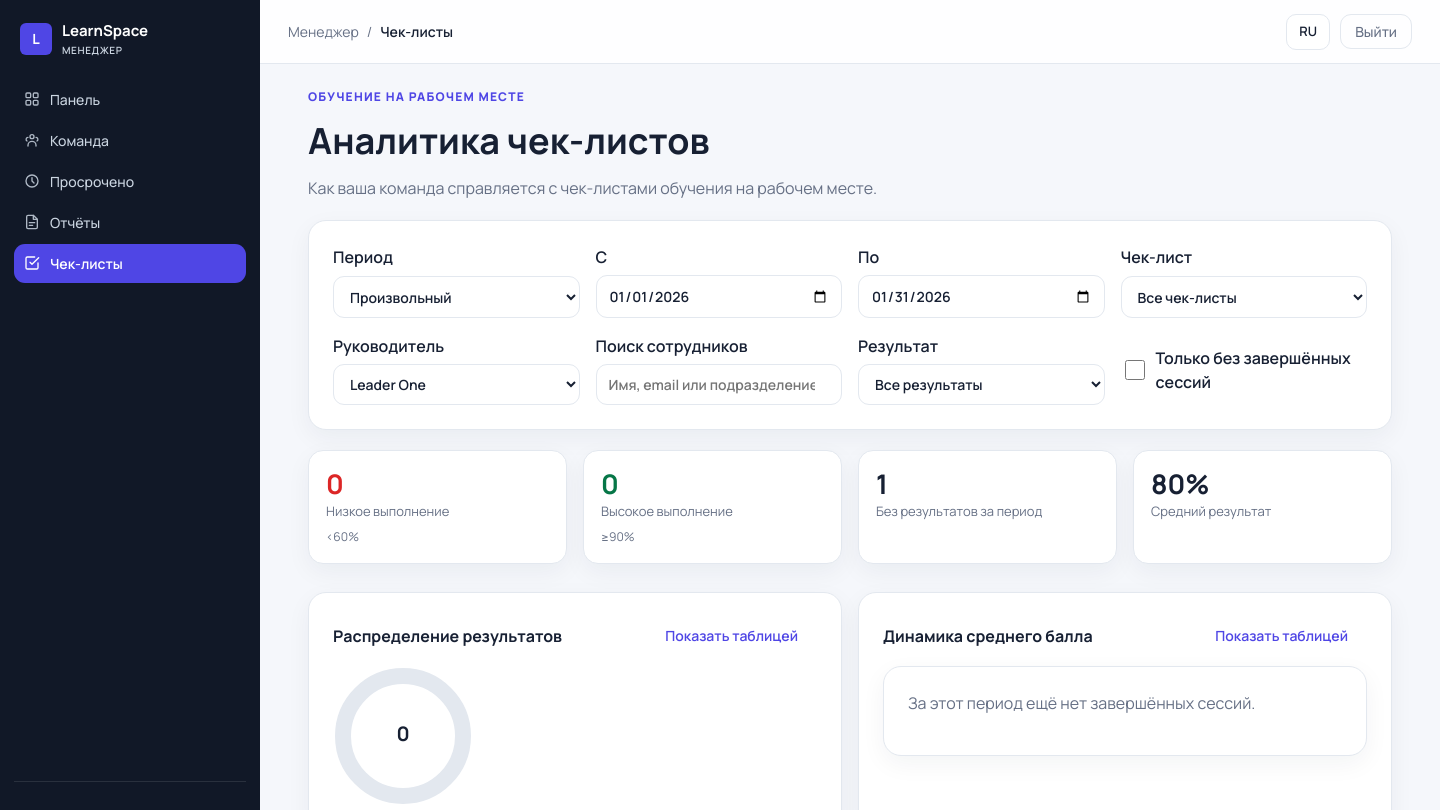
Test: restores a manager from the URL and preserves the period when switching to unassigned
Select "Без руководителя" in the dropdown labelled "Руководитель" at coordinates (456, 384), box left=333, top=364, right=580, bottom=405
(page scrolled)
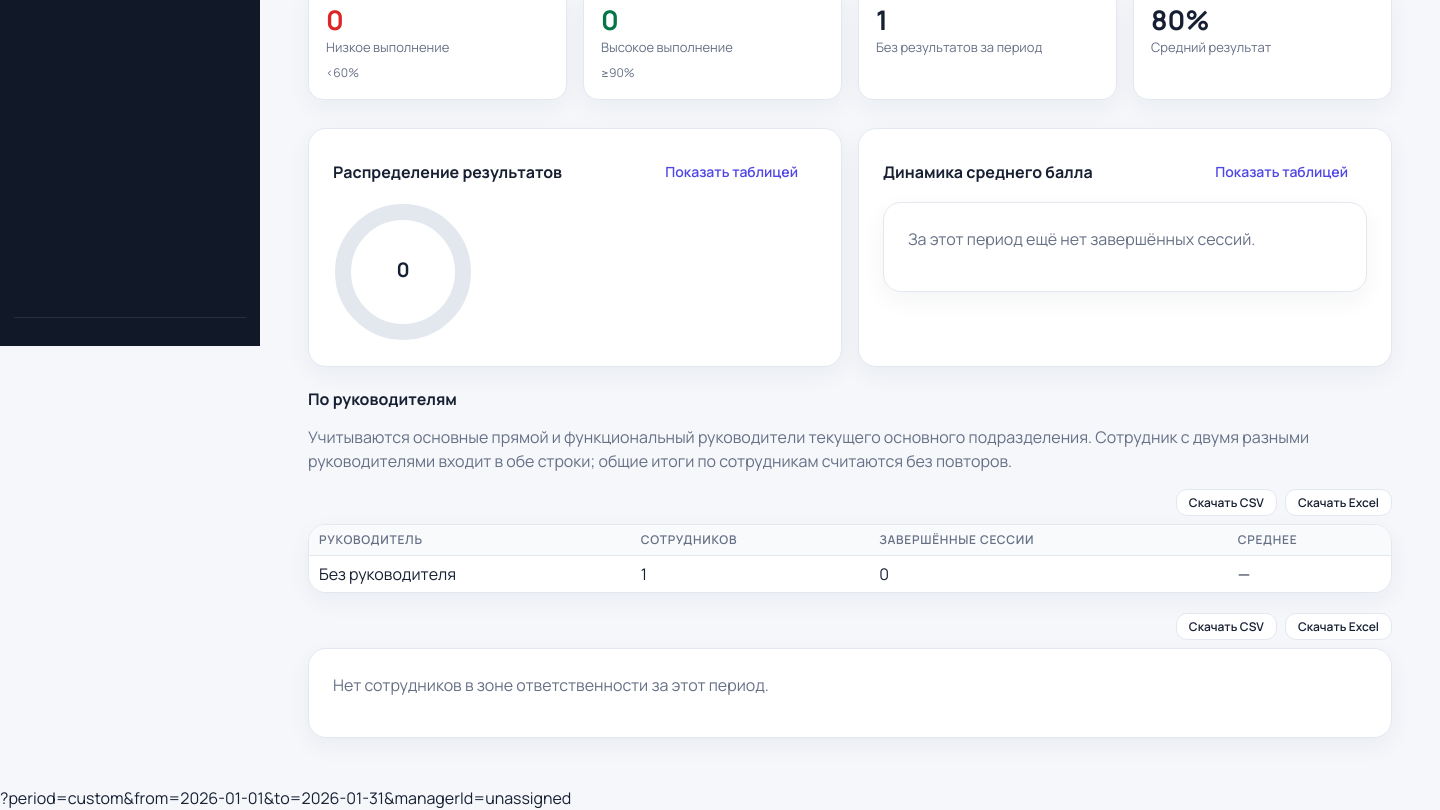
Expected: the text "from=2026-01-01" is shown, left=0, top=787, right=571, bottom=809
Expected: the text "managerId=unassigned" is shown, left=0, top=787, right=571, bottom=809
Expected: the element that starts with "По руководителям" shows "Без руководителя", left=319, top=563, right=456, bottom=585
